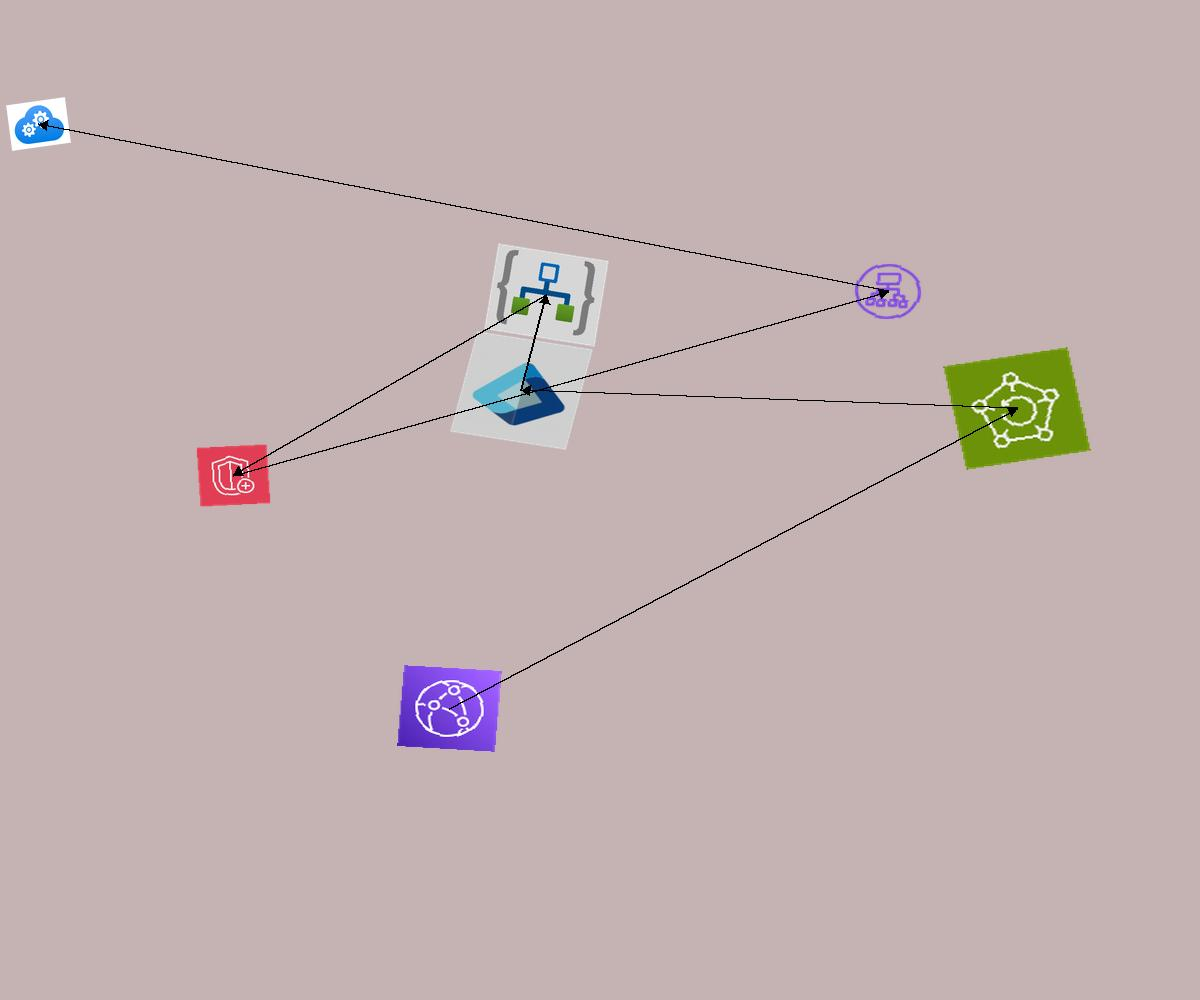AWS-Backup: (943, 347, 1091, 470)
AWS-CloudFront: (397, 665, 502, 752)
AWS-Res_Elastic-Load-Balancing_Application-Load-Balancer: (849, 259, 927, 324)
AWS-Shield: (196, 444, 271, 507)
Azure_cloud_services: (6, 97, 71, 151)
Azure_integration-204-Logic-Apps: (484, 243, 609, 347)
Azure_microsoft_entra: (450, 331, 593, 450)
